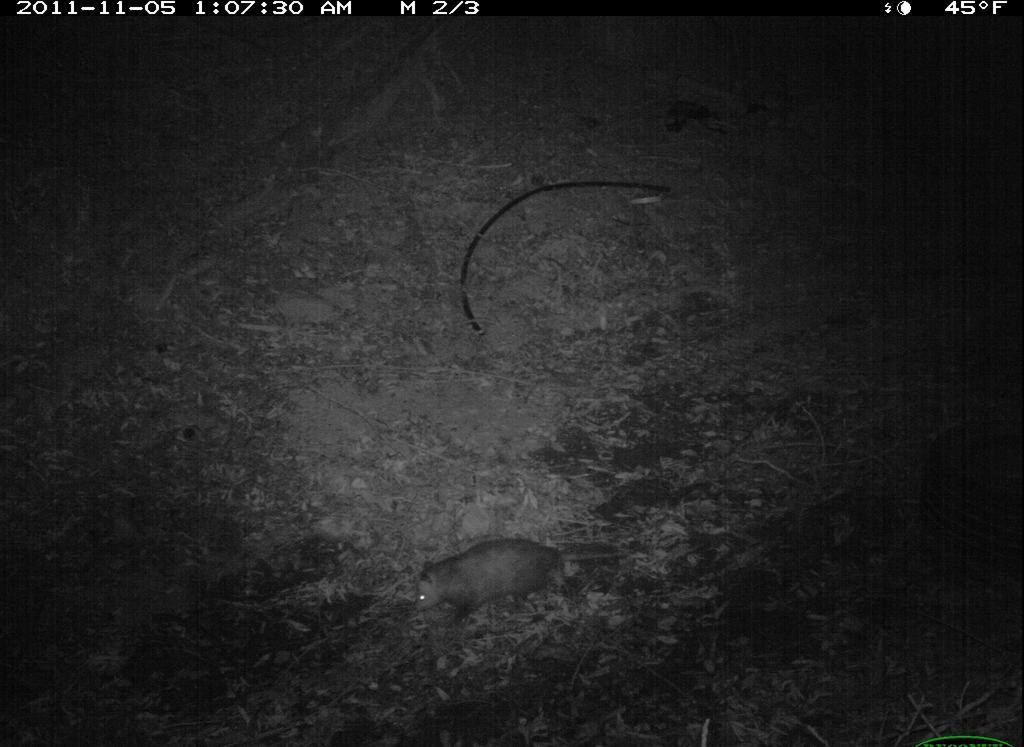opossum: (387, 533, 653, 642)
